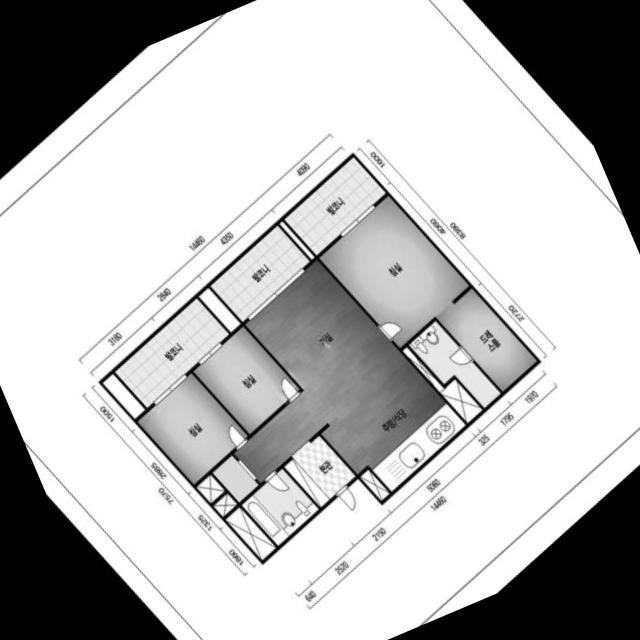background: (0, 0, 640, 640)
space_balconi: (114, 297, 229, 407), (283, 156, 385, 255), (209, 224, 309, 321)
space_bedroom: (318, 194, 469, 347), (136, 372, 247, 483), (192, 325, 299, 433)
space_dressroom: (437, 287, 536, 391)
space_front: (283, 434, 355, 507)
space_kitchen: (320, 357, 465, 491)
space_living_room: (212, 259, 402, 502)
space_other: (401, 346, 482, 422), (224, 505, 276, 560), (359, 468, 389, 500), (195, 473, 225, 503), (212, 492, 237, 516)
space_toilet: (408, 319, 501, 407), (241, 467, 319, 545)
